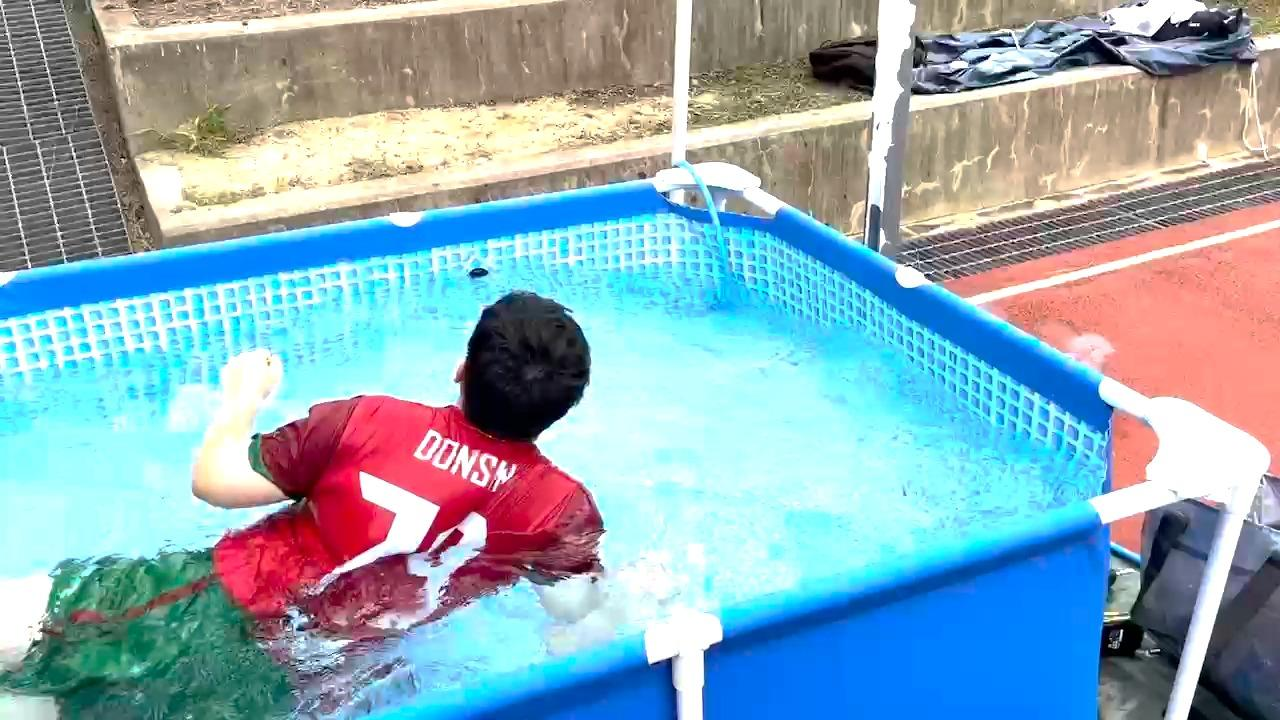Swimming: (0, 259, 690, 694)
